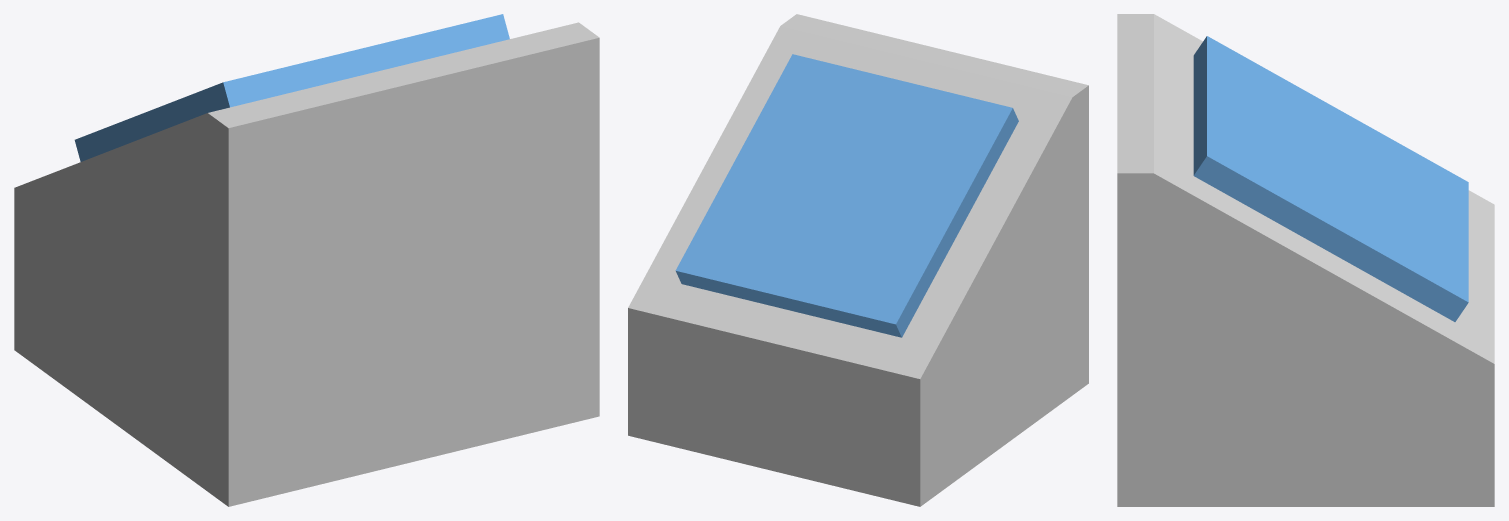
The model's file is building_1x1_12_r.glb.
3 views of the same model, side by side, from view 1: azimuth 30°, elevation 25°; view 2: azimuth 150°, elevation 25°; view 3: azimuth 270°, elevation 25° (orthographic). The views are drawn at different scales.
Parts seen in each view (by area): view 1: Cube.002; view 2: Cube.002; view 3: Cube.002.
Boxes of the visible parts, box(x1,y1,x2,y2) form: Cube.002: box(14, 14, 599, 506); Cube.002: box(628, 14, 1088, 506); Cube.002: box(1117, 14, 1494, 506).
Size of the model in its own units: 1.64 by 1.6 by 1.64.
